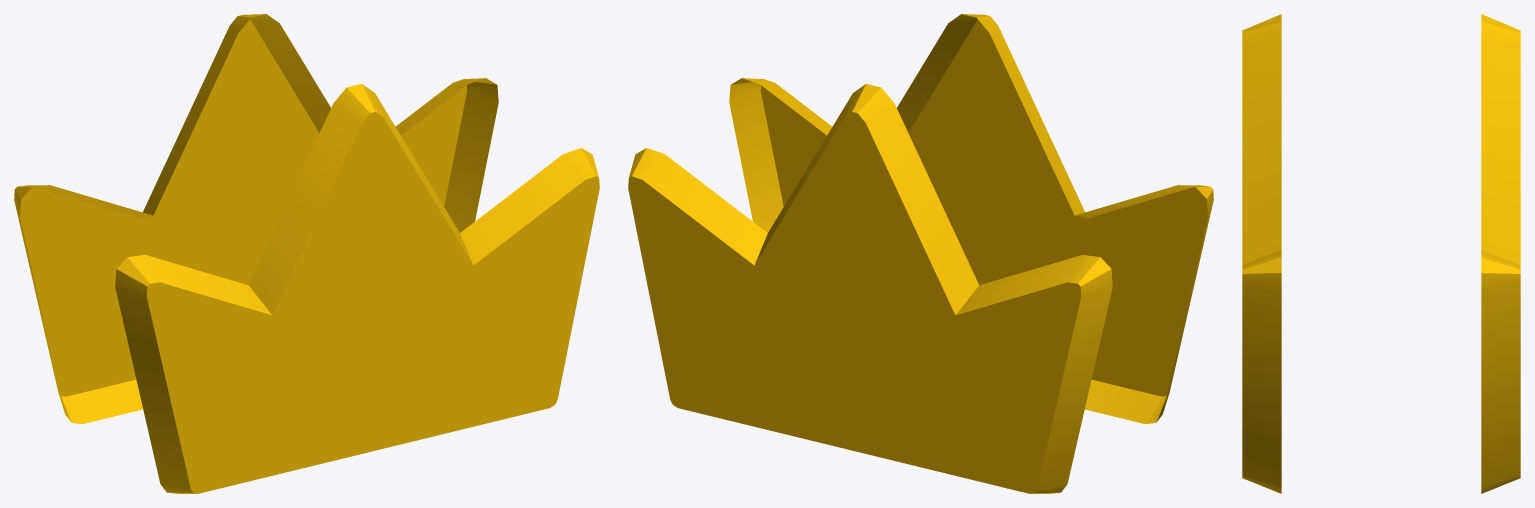
Rendered from Crown.fbx.
The picture shows the model from 3 angles, left to right: view 1: azimuth 30°, elevation 25°; view 2: azimuth 150°, elevation 25°; view 3: azimuth 270°, elevation 25°; orthographic projection. The views are drawn at different scales.
Parts seen in each view (by area): view 1: Crown; view 2: Crown; view 3: Crown.
Boxes of the visible parts, box(x1,y1,x2,y2) form: Crown: box(14, 14, 599, 493); Crown: box(628, 14, 1213, 493); Crown: box(1242, 14, 1520, 493).
Size of the model in its own units: 94.13 by 68.64 by 45.17.
